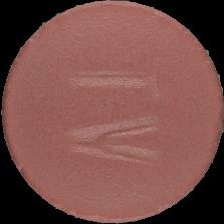54458-932: (0, 0, 224, 224)
